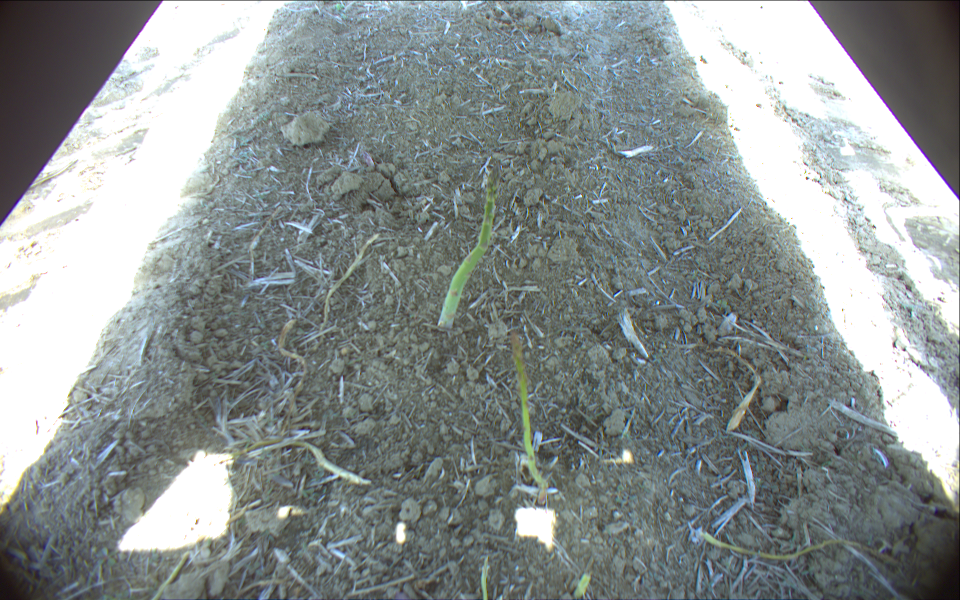aspa: (436, 164, 499, 328), (704, 534, 909, 572), (508, 328, 550, 500), (575, 564, 594, 600), (479, 557, 490, 600)
